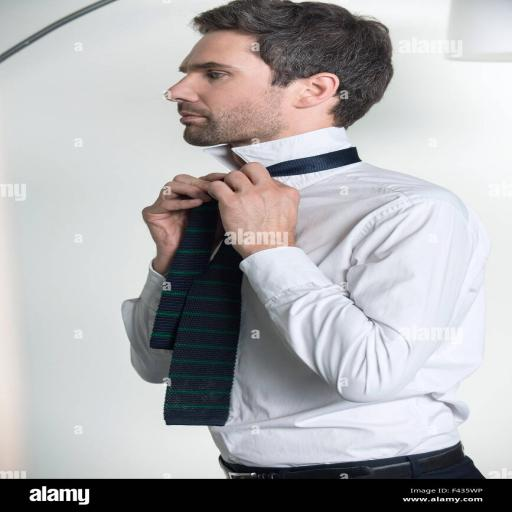person: (121, 0, 491, 480)
tie: (150, 144, 362, 426)
